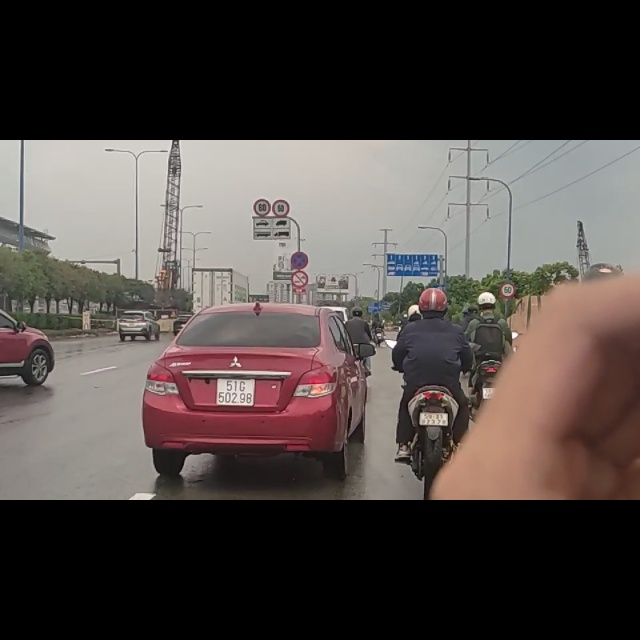bien_chi_dan: (290, 198, 308, 230)
